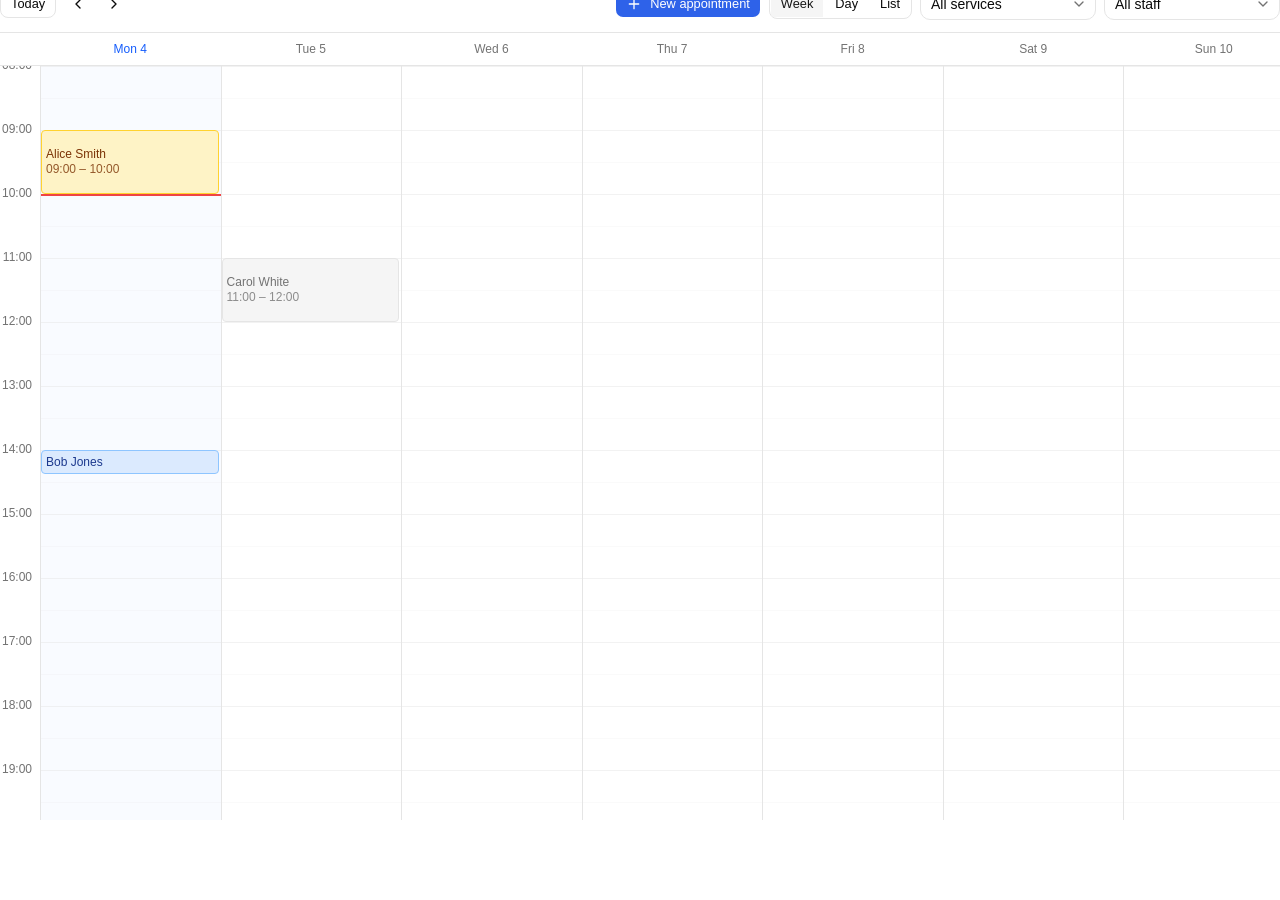
Test: Calendar appointment improvements › Appointment approval › clicking Confirm sends PATCH { status: "confirmed" } and closes dialog
(page scrolled)
Click the button with test id "booking-block-bk-1".
click(130, 162)  # box [41,130,219,194]
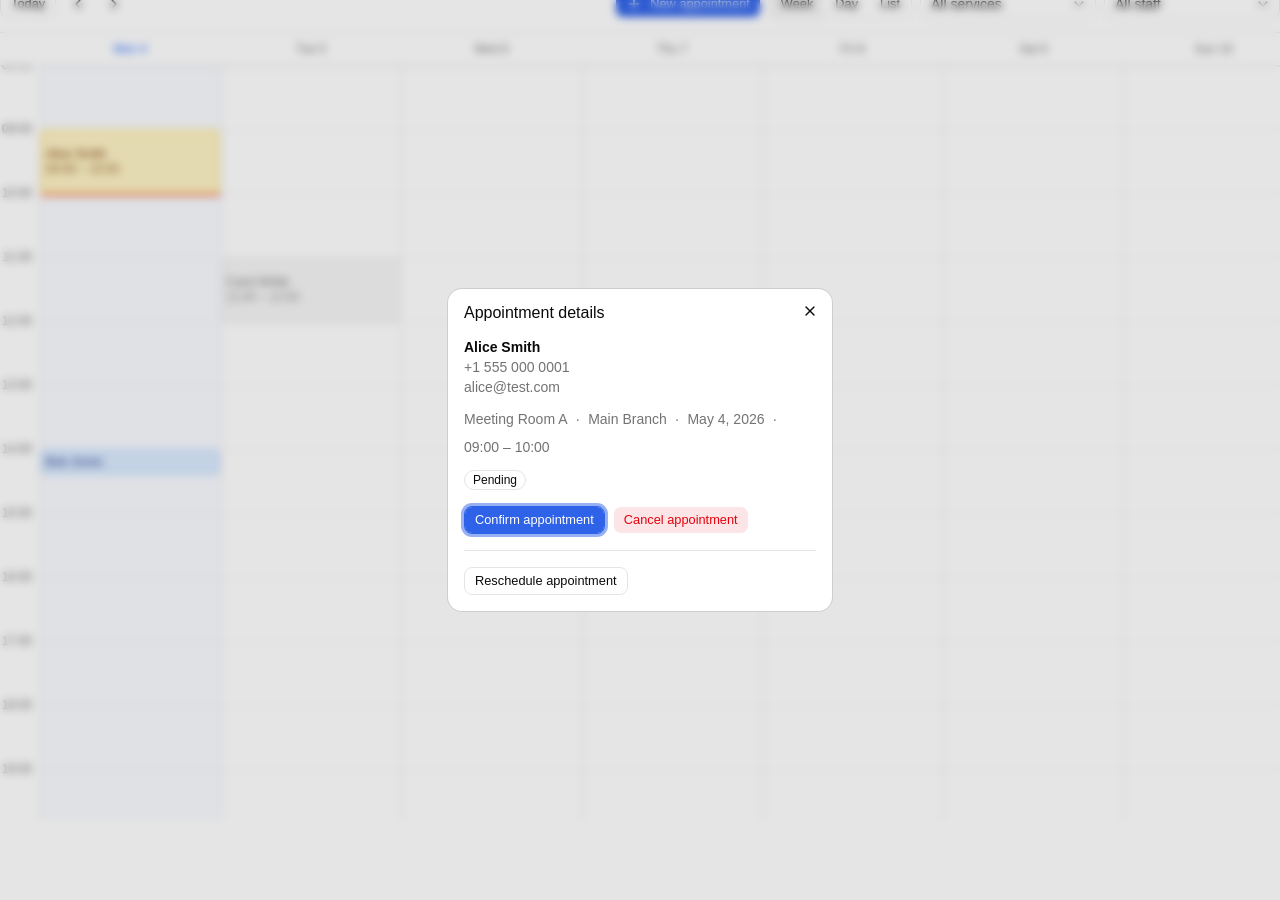
Click the button "Confirm appointment".
click(534, 520)  # box [464,506,605,534]
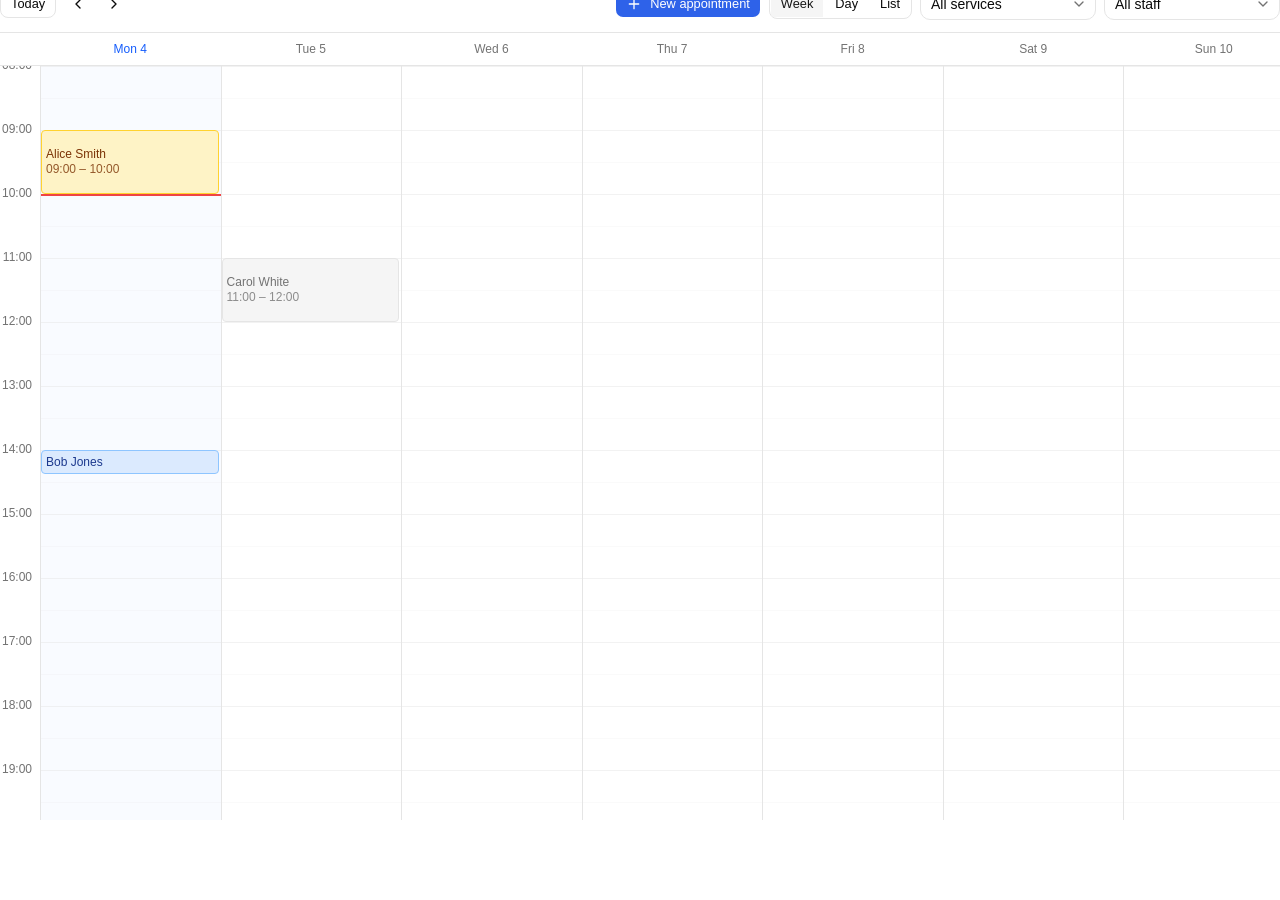
Check: the dialog is gone
